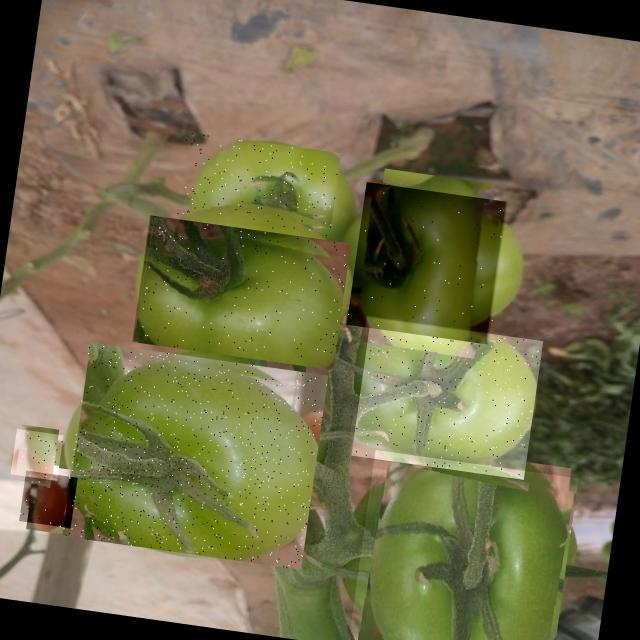Ripe Tomato: (19, 471, 78, 528)
Unripe Tomato: (62, 342, 329, 570), (347, 450, 578, 640), (132, 216, 351, 370), (352, 317, 544, 480), (347, 182, 510, 345), (176, 132, 342, 238), (11, 429, 64, 481)
